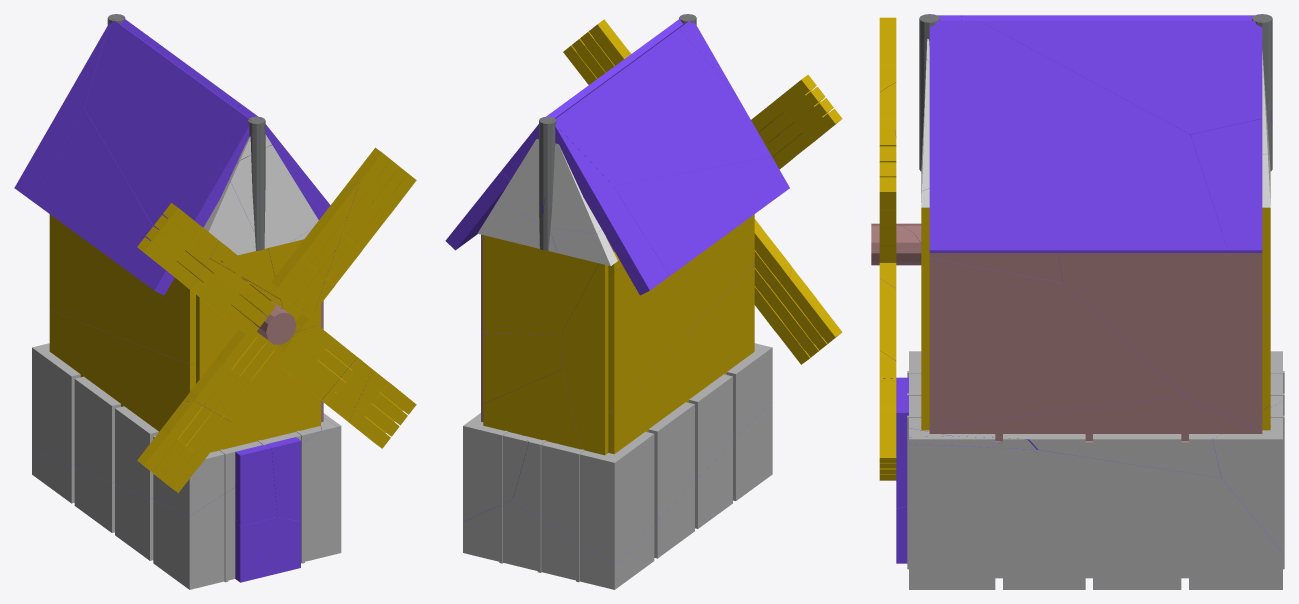
The model's file is Windmill_Broken.fbx.
The picture shows the model from 3 angles, left to right: view 1: azimuth 30°, elevation 25°; view 2: azimuth 150°, elevation 25°; view 3: azimuth 270°, elevation 25°; orthographic projection. The views are drawn at different scales.
Parts seen in each view (by area): view 1: Windmill.014_cell.001, Windmill.005_cell.002, Windmill.005_cell, Windmill.011_cell.002, Windmill.014_cell.002, Windmill.011_cell.001, Windmill.008_cell.002, Windmill.007_cell.002, Windmill.010_cell.001, Windmill.015_cell.002, Windmill.008_cell.001, Windmill.007_cell.001 (+19 smaller); view 2: Windmill.005_cell, Windmill.014_cell.001, Windmill.005_cell.002, Windmill.011_cell.002, Windmill.014_cell.002, Windmill.011_cell.001, Windmill.012_cell, Windmill.012_cell.002, Windmill.014_cell, Windmill.005_cell.003, Windmill.012_cell.001, Windmill.016_cell.002 (+15 smaller); view 3: Windmill.013_cell.002, Windmill.005_cell.002, Windmill.001_cell.001, Windmill.001_cell.003, Windmill.013_cell.001, Windmill.005_cell, Windmill.001_cell, Windmill.013_cell, Windmill.005_cell.003, Windmill.008_cell.002, Windmill.001_cell.002, Windmill.006_cell (+14 smaller).
Boxes of the visible parts, box(x1,y1,x2,y2) form: Windmill.014_cell.001: box(84, 19, 241, 229); Windmill.005_cell.002: box(32, 418, 341, 589); Windmill.005_cell: box(32, 343, 321, 515); Windmill.011_cell.002: box(49, 214, 195, 364); Windmill.014_cell.002: box(34, 108, 174, 295); Windmill.011_cell.001: box(49, 310, 195, 431); Windmill.008_cell.002: box(314, 148, 416, 311); Windmill.007_cell.002: box(183, 329, 282, 422); Windmill.010_cell.001: box(210, 365, 320, 452); Windmill.015_cell.002: box(229, 145, 318, 248); Windmill.008_cell.001: box(271, 182, 359, 318); Windmill.007_cell.001: box(137, 401, 232, 474); Windmill.005_cell: box(513, 343, 772, 564); Windmill.014_cell.001: box(552, 28, 771, 185); Windmill.005_cell.002: box(463, 401, 772, 589); Windmill.011_cell.002: box(608, 214, 754, 412); Windmill.014_cell.002: box(613, 156, 789, 275); Windmill.011_cell.001: box(608, 262, 754, 454); Windmill.012_cell: box(483, 235, 598, 334); Windmill.012_cell.002: box(560, 263, 608, 455); Windmill.014_cell: box(555, 125, 669, 295); Windmill.005_cell.003: box(463, 413, 528, 521); Windmill.012_cell.001: box(483, 369, 580, 449); Windmill.016_cell.002: box(498, 139, 601, 233); Windmill.013_cell.002: box(929, 21, 1227, 252); Windmill.005_cell.002: box(907, 426, 1284, 589); Windmill.001_cell.001: box(929, 258, 1184, 427); Windmill.001_cell.003: box(1058, 253, 1262, 431); Windmill.013_cell.001: box(980, 21, 1262, 134); Windmill.005_cell: box(907, 351, 1284, 477); Windmill.001_cell: box(929, 396, 1262, 441); Windmill.013_cell: box(1190, 119, 1262, 252); Windmill.005_cell.003: box(1212, 401, 1284, 552); Windmill.008_cell.002: box(879, 129, 896, 262); Windmill.001_cell.002: box(929, 253, 1062, 282); Windmill.006_cell: box(879, 378, 896, 480).
Bounding box in the file's own units: 4.49 × 7.01 × 4.97.
